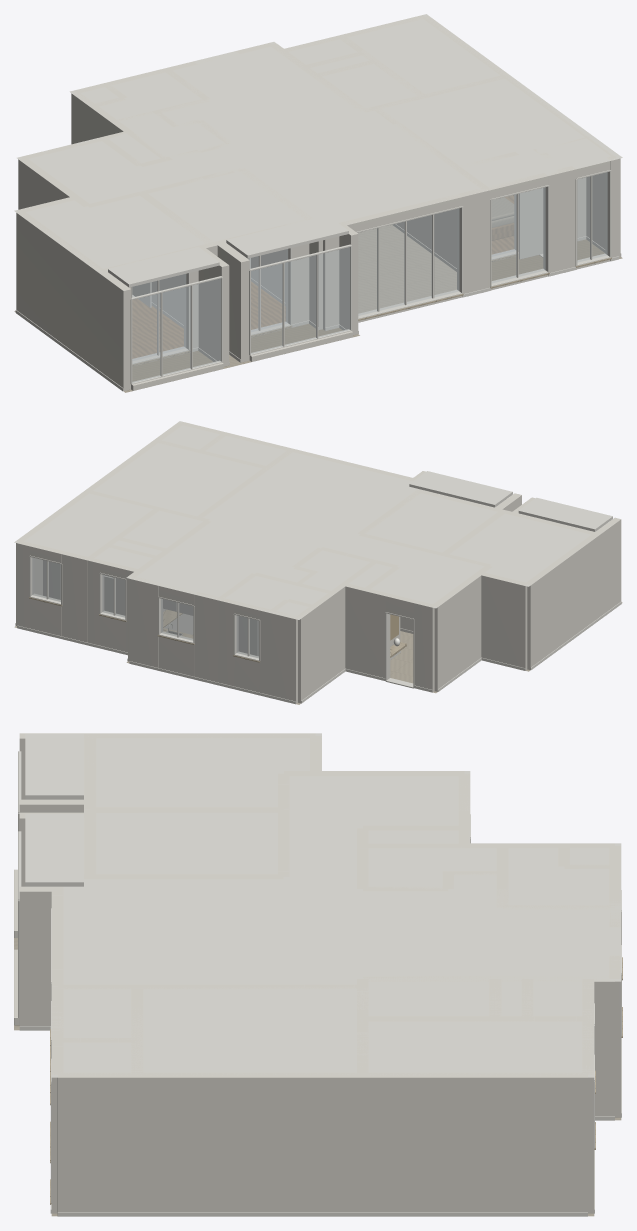
The model's file is acro112a-expanded.glb.
3 views of the same model, one above another, from view 1: azimuth 30°, elevation 25°; view 2: azimuth 150°, elevation 25°; view 3: azimuth 270°, elevation 25° (orthographic). The views are drawn at different scales.
Visible parts, largest first — view 1: Indoor ceiling, West bedroom outer wall pier, Living south facade glazing, Center reference exterior balcony glass, West reference exterior balcony glass, Living front floor, Master south facade glazing, West bedroom outer glazing glazing, Open balcony shaft west pier, Master south facade pier.001, Living south facade pier.001, East facade pier (+33 smaller); view 2: Indoor ceiling, West bedroom outer wall pier, Entry west wall pier, West notch north pier, Entry north wall pier.001, Service west wall pier, North service facade pier, North kitchen facade pier.001, North dressing facade pier, North kitchen facade pier, Center reference balcony ceiling, Entry north wall pier (+26 smaller); view 3: Indoor ceiling, East facade pier, Open balcony east return pier, Center reference balcony ceiling, West reference balcony ceiling, North east step pier, East facade skirting.001, West bedroom outer wall pier, Master living divider pier.001, North kitchen facade pier.001, Bedroom center east wall pier, Bedroom dividing wall pier (+9 smaller).
Boxes of the visible parts, bbox=[...] form: Indoor ceiling: bbox=[14, 14, 622, 273]; West bedroom outer wall pier: bbox=[16, 210, 130, 391]; Living south facade glazing: bbox=[358, 208, 459, 315]; Center reference exterior balcony glass: bbox=[251, 247, 349, 353]; West reference exterior balcony glass: bbox=[132, 279, 220, 382]; Living front floor: bbox=[358, 232, 456, 313]; Master south facade glazing: bbox=[492, 187, 545, 283]; West bedroom outer glazing glazing: bbox=[132, 274, 185, 360]; Open balcony shaft west pier: bbox=[198, 247, 229, 366]; Master south facade pier.001: bbox=[548, 166, 576, 272]; Living south facade pier.001: bbox=[458, 188, 488, 293]; East facade pier: bbox=[422, 16, 620, 256]; Indoor ceiling: bbox=[14, 421, 590, 619]; West bedroom outer wall pier: bbox=[524, 517, 621, 670]; Entry west wall pier: bbox=[431, 565, 492, 691]; West notch north pier: bbox=[481, 572, 527, 670]; Entry north wall pier.001: bbox=[342, 583, 388, 678]; Service west wall pier: bbox=[295, 584, 346, 703]; North service facade pier: bbox=[259, 608, 297, 703]; North kitchen facade pier.001: bbox=[129, 576, 160, 667]; North dressing facade pier: bbox=[62, 551, 90, 642]; North kitchen facade pier: bbox=[194, 592, 220, 682]; Center reference balcony ceiling: bbox=[409, 471, 512, 507]; Entry north wall pier: bbox=[414, 600, 435, 691]; Indoor ceiling: bbox=[51, 733, 621, 1077]; East facade pier: bbox=[57, 1072, 587, 1212]; Open balcony east return pier: bbox=[19, 886, 57, 1025]; Center reference balcony ceiling: bbox=[25, 814, 83, 886]; West reference balcony ceiling: bbox=[25, 734, 83, 799]; North east step pier: bbox=[588, 976, 614, 1116]; East facade skirting.001: bbox=[57, 1212, 587, 1216]; West bedroom outer wall pier: bbox=[19, 733, 315, 799]; Master living divider pier.001: bbox=[58, 984, 303, 989]; North kitchen facade pier.001: bbox=[609, 955, 621, 1117]; Bedroom center east wall pier: bbox=[84, 874, 283, 879]; Bedroom dividing wall pier: bbox=[90, 807, 283, 812].
Size of the model in its own units: 13.88 by 2.7 by 10.35.
Materials: 15 (6 with a texture image).
